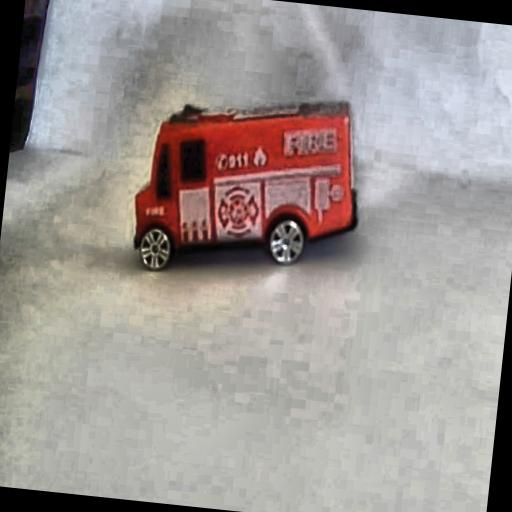fire_truck: (117, 72, 375, 300), (259, 100, 352, 153)
